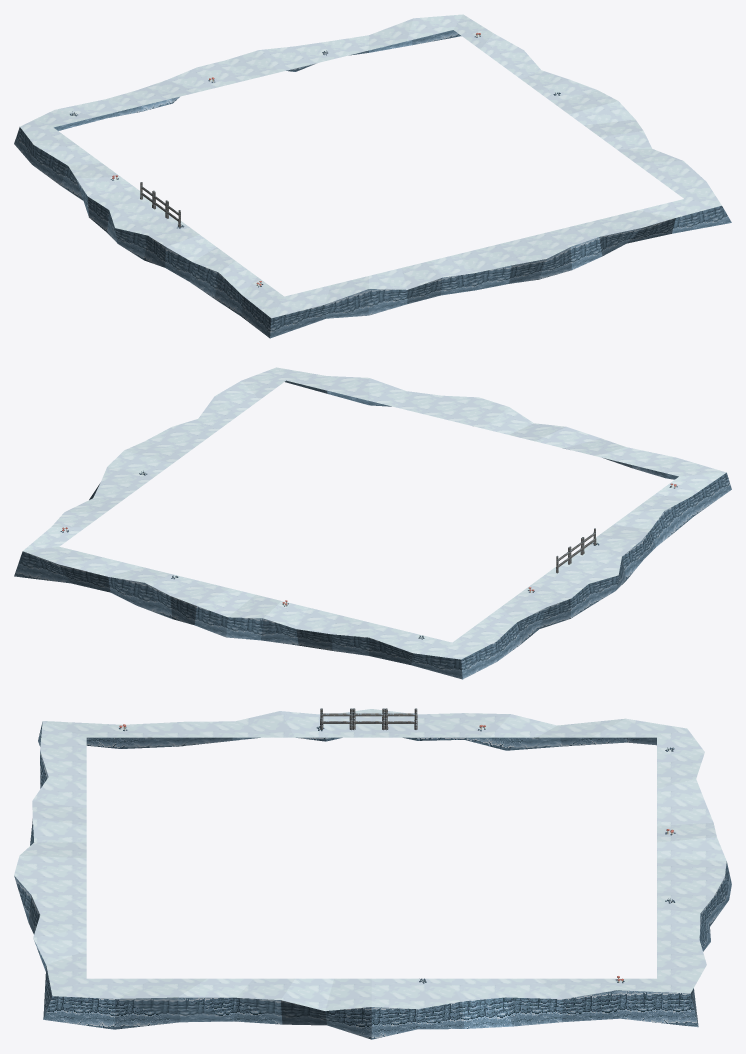
File: entorno_16.glb
The picture shows the model from 3 angles, top to bottom: view 1: azimuth 30°, elevation 25°; view 2: azimuth 150°, elevation 25°; view 3: azimuth 270°, elevation 25°; orthographic projection. The views are drawn at different scales.
Parts seen in each view (by area): view 1: neve_entorno_16; view 2: neve_entorno_16; view 3: neve_entorno_16.
Boxes of the visible parts, x1=… form: neve_entorno_16: x1=14, y1=14, x2=731, y2=338; neve_entorno_16: x1=14, y1=367, x2=731, y2=679; neve_entorno_16: x1=14, y1=708, x2=731, y2=1039.
Bounding box in the file's own units: 20.59 × 1.7 × 20.39.
Materials: 7 (5 with a texture image).
